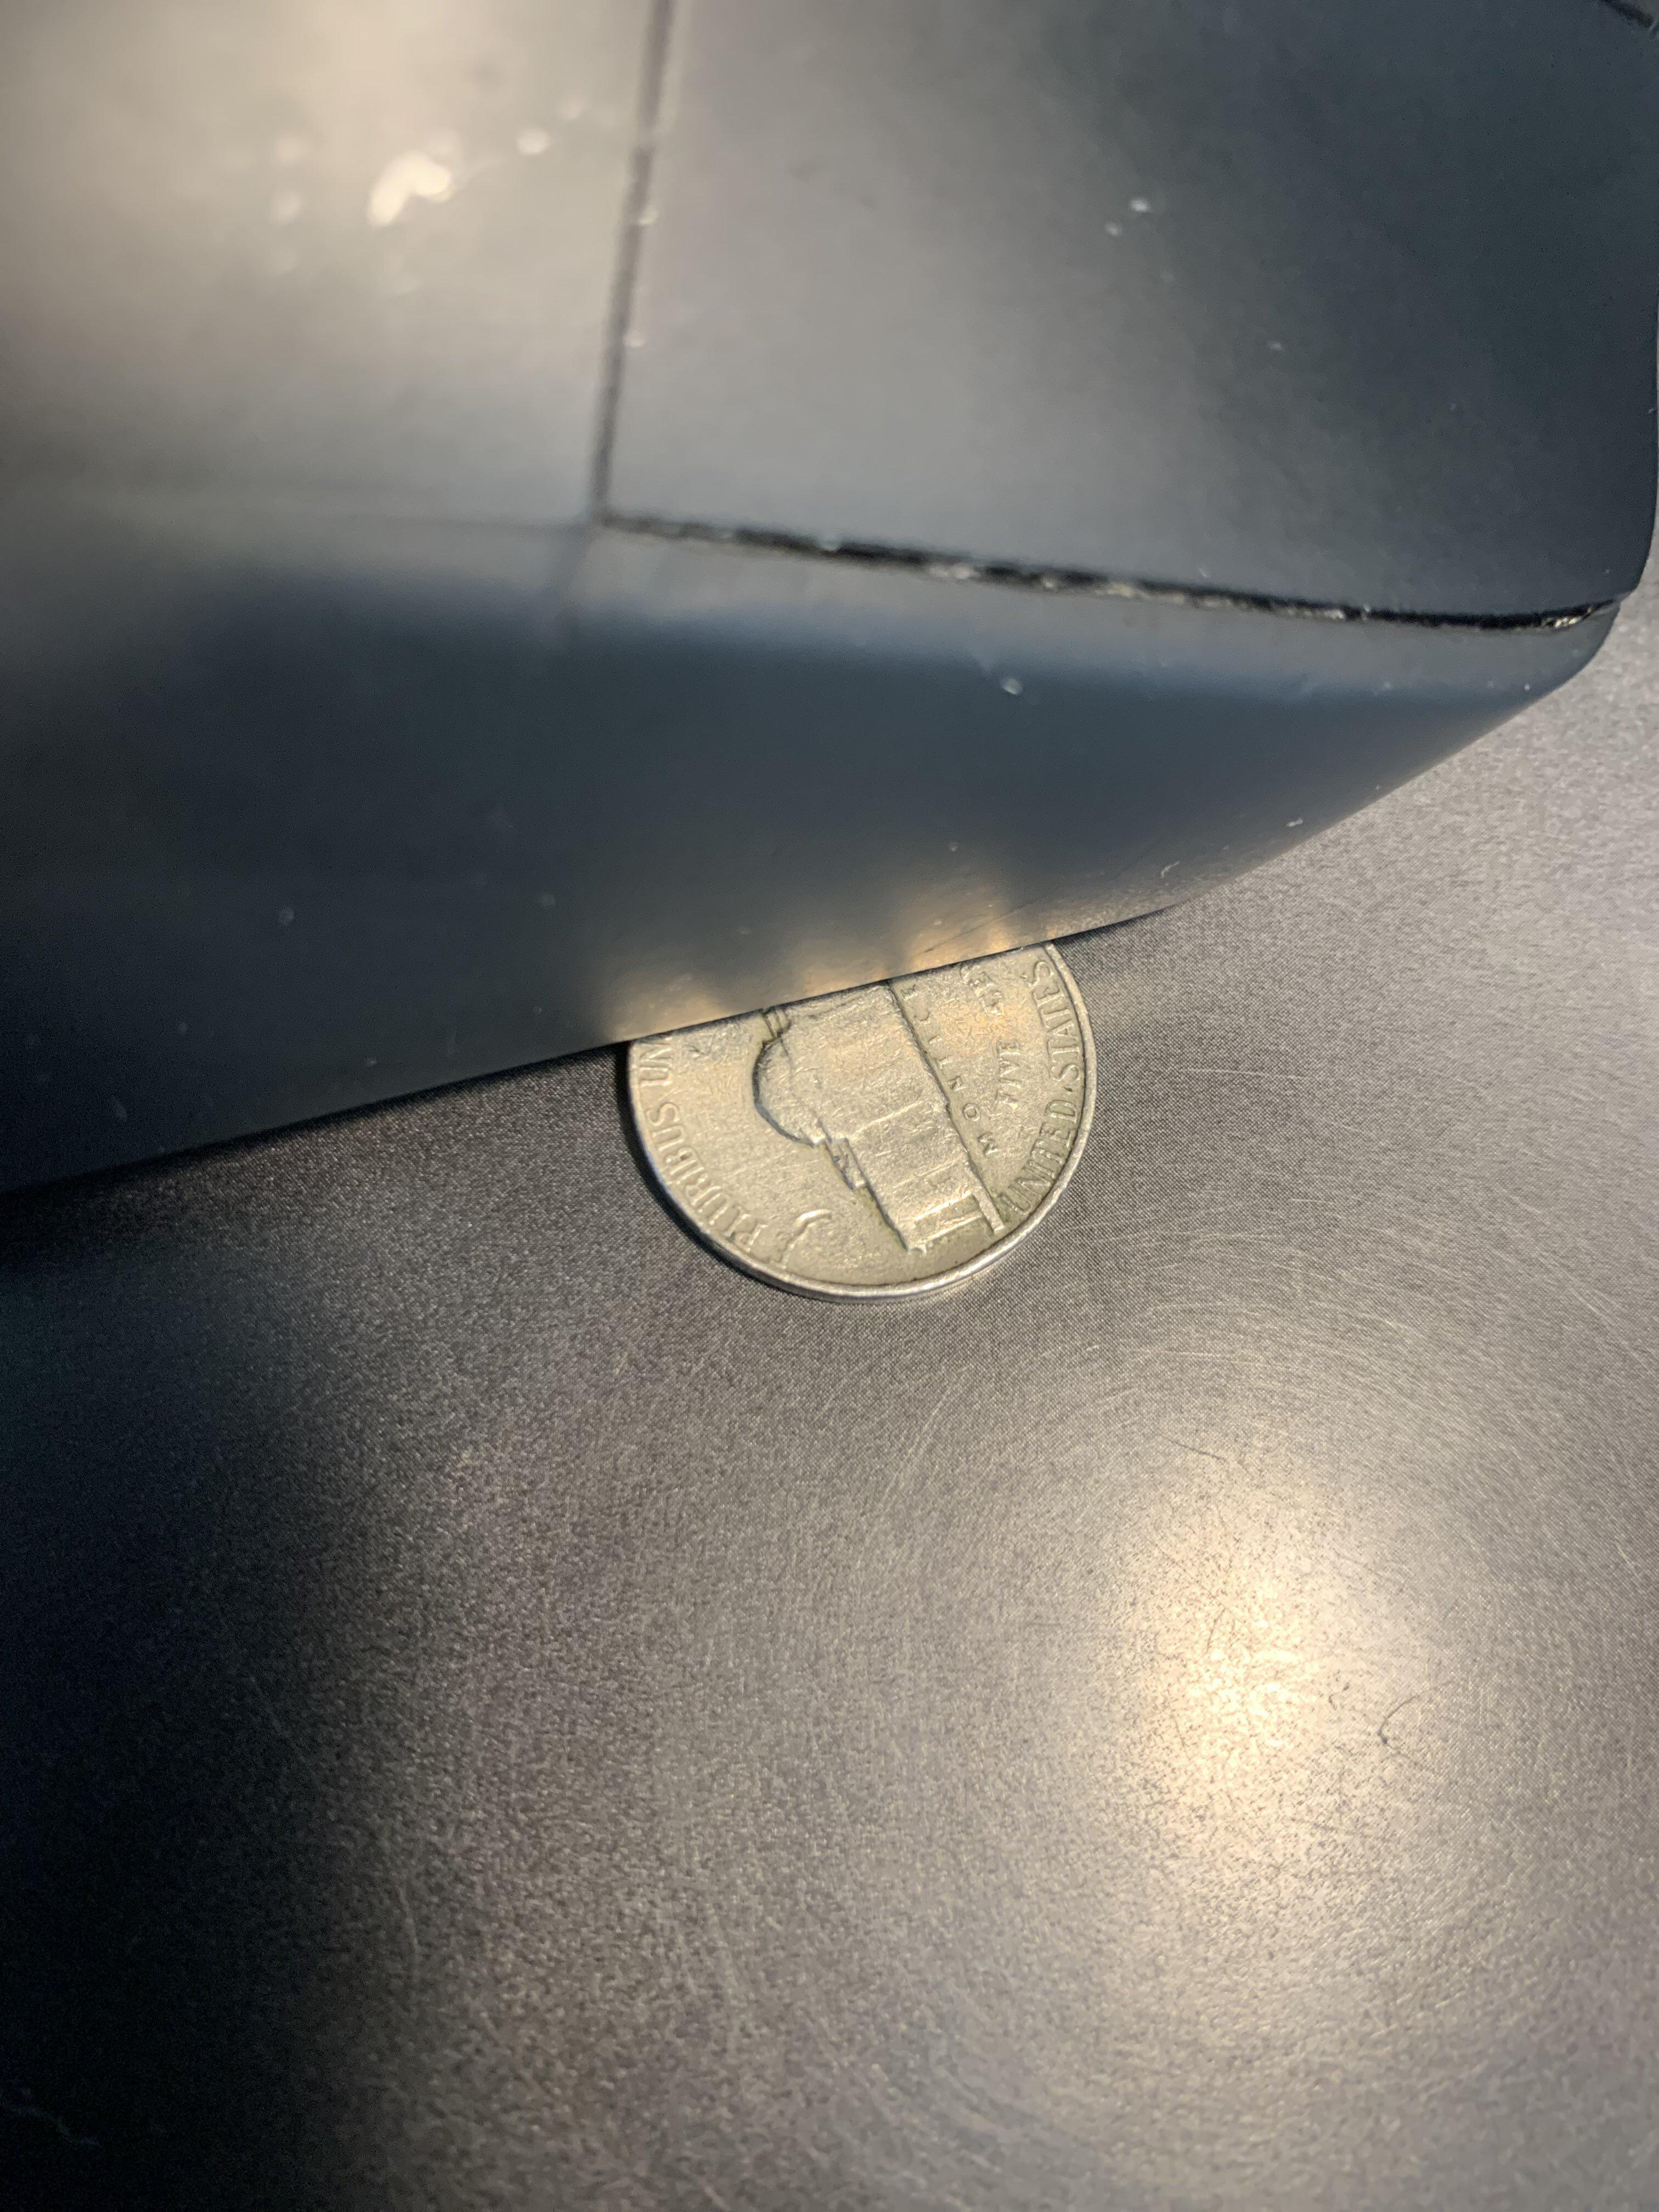Nickel: (565, 869, 1159, 1357)
